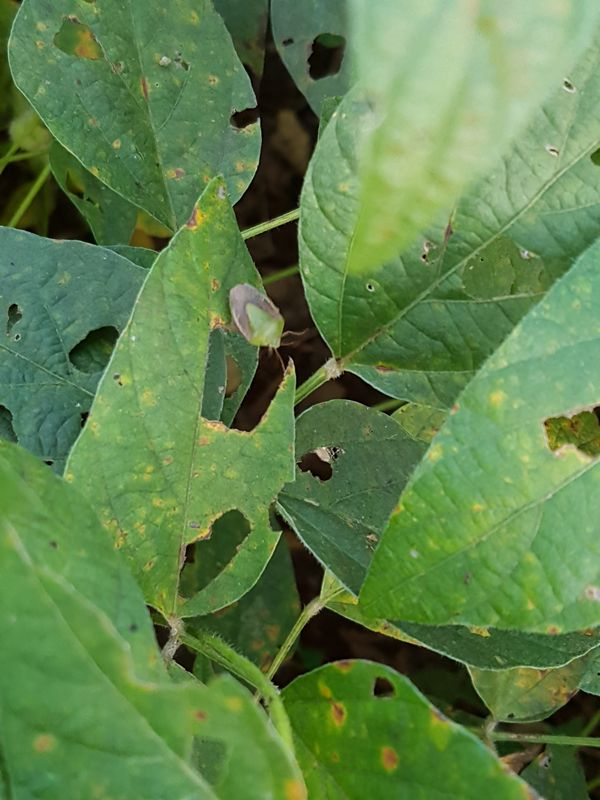Edessa_meditabunda: (205, 267, 316, 370)
